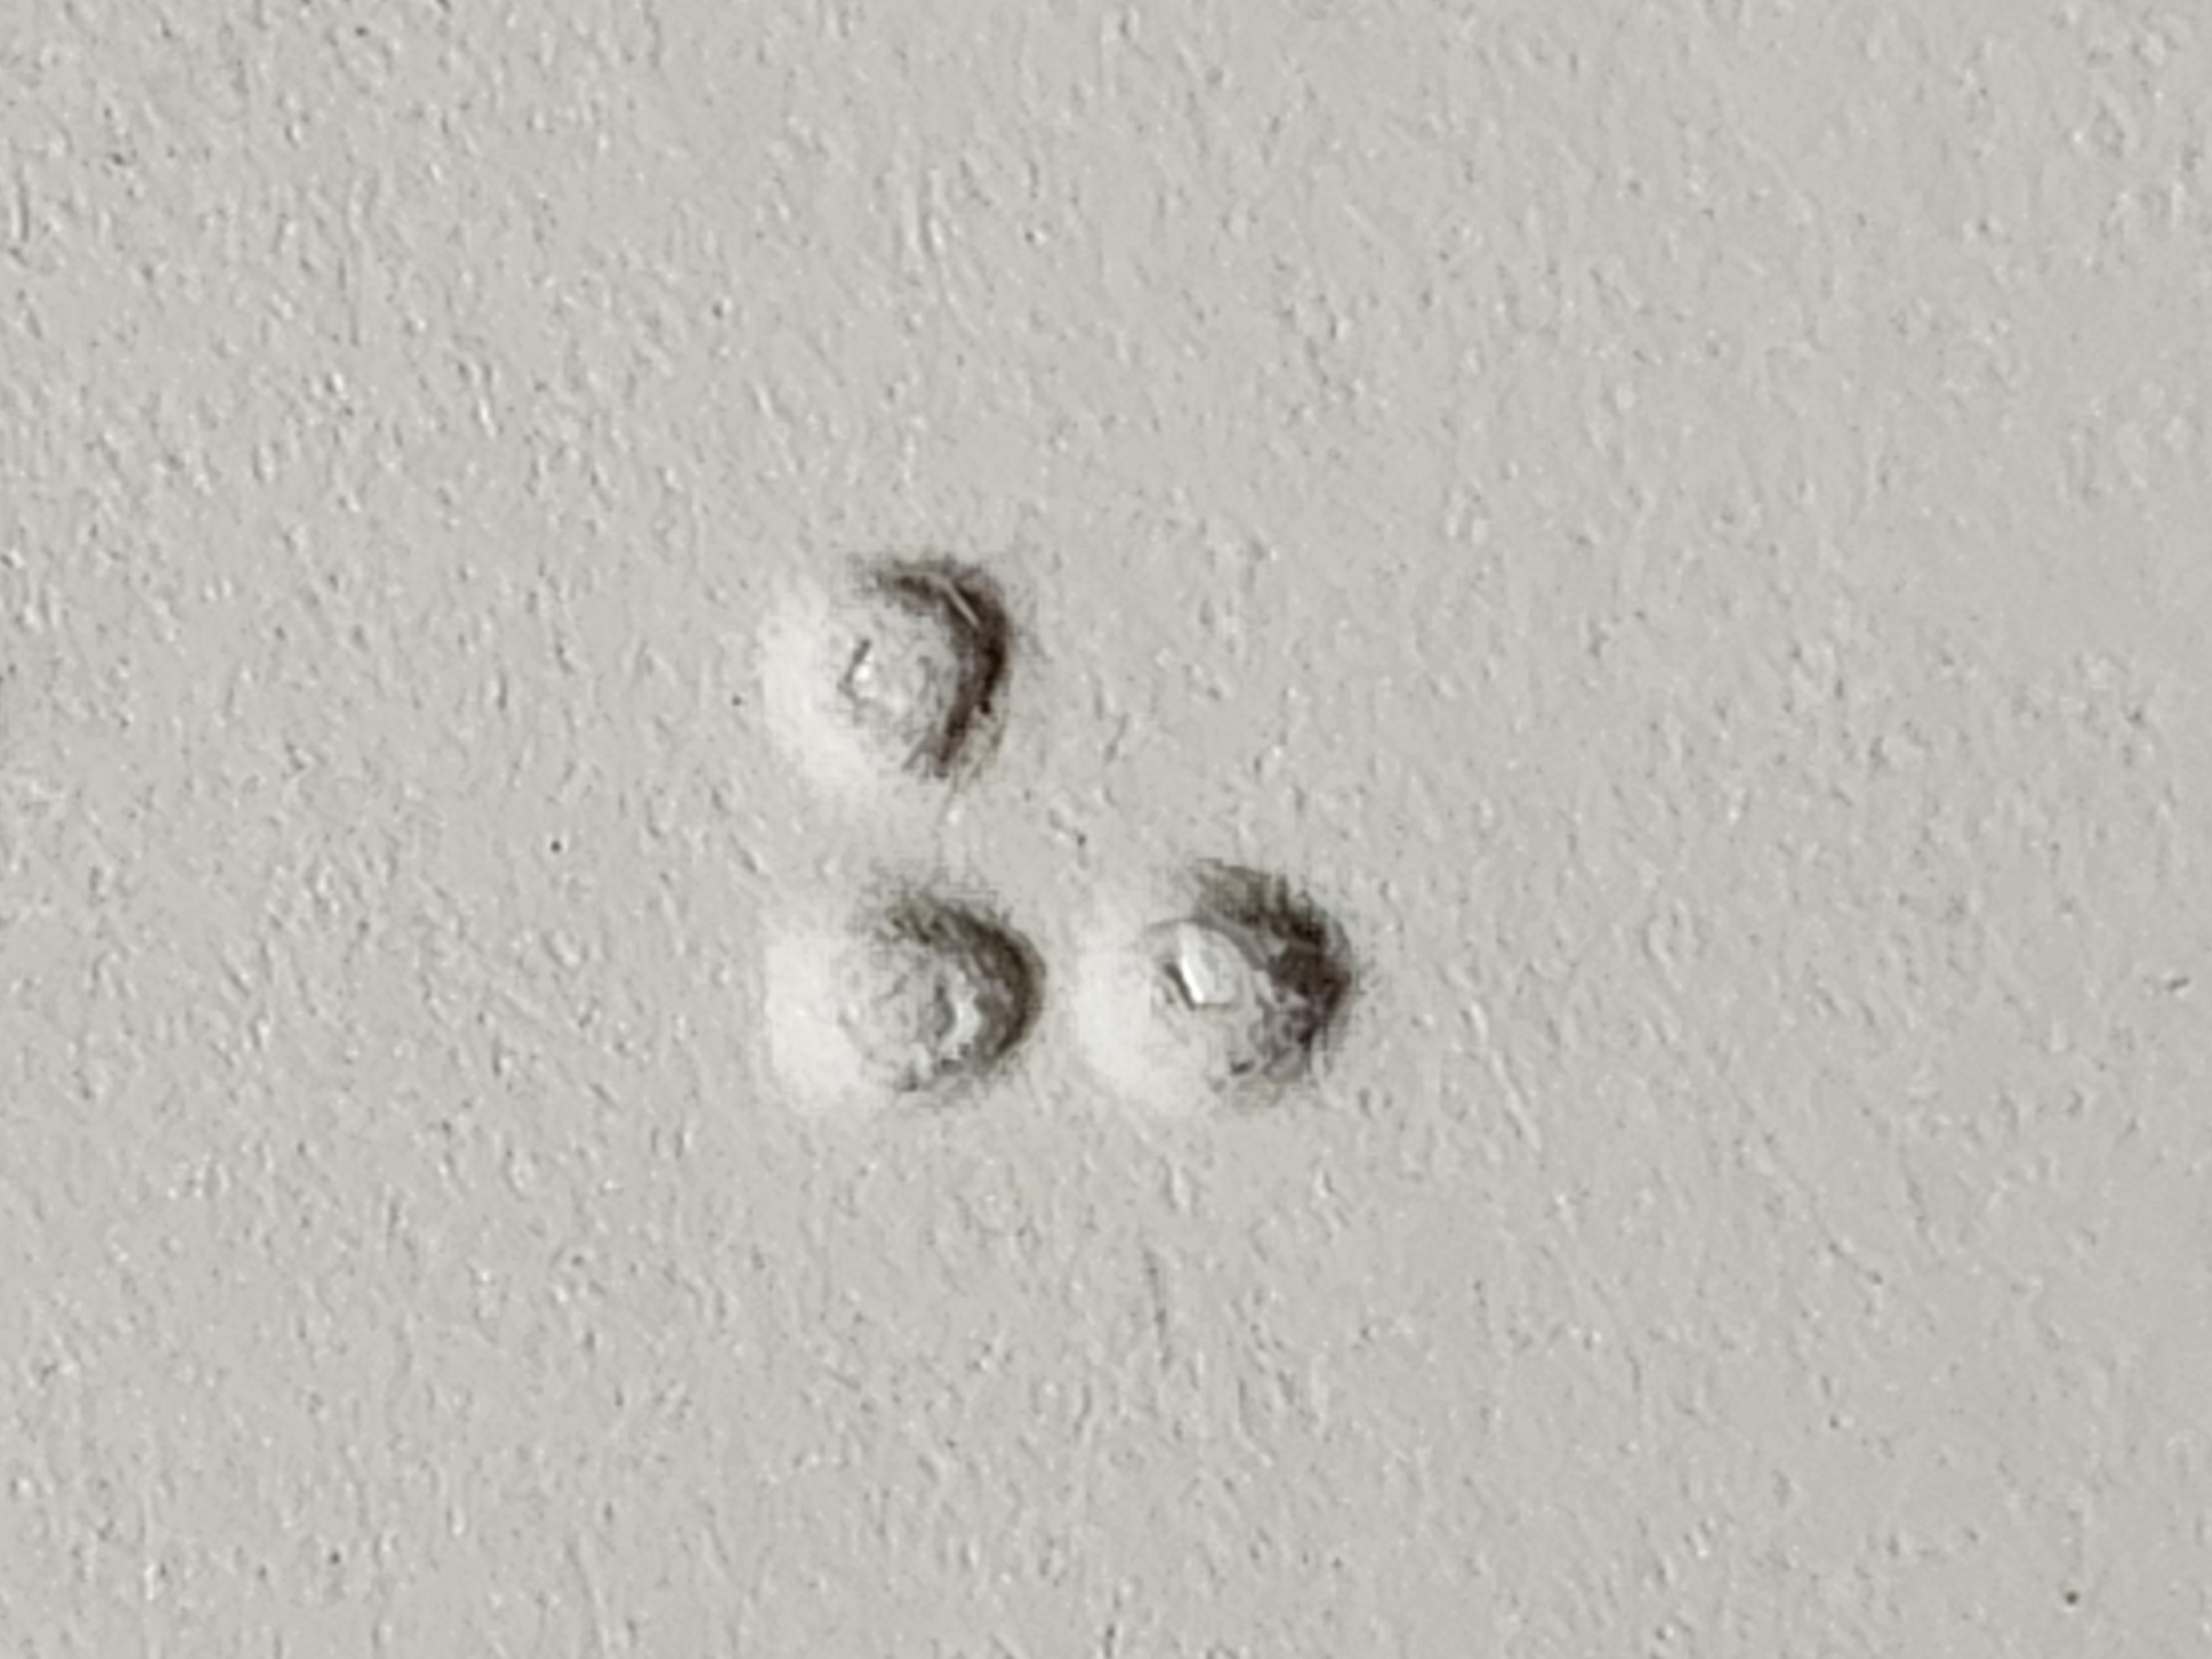one_cell_alphabet_paano: (716, 570, 1463, 1286)
